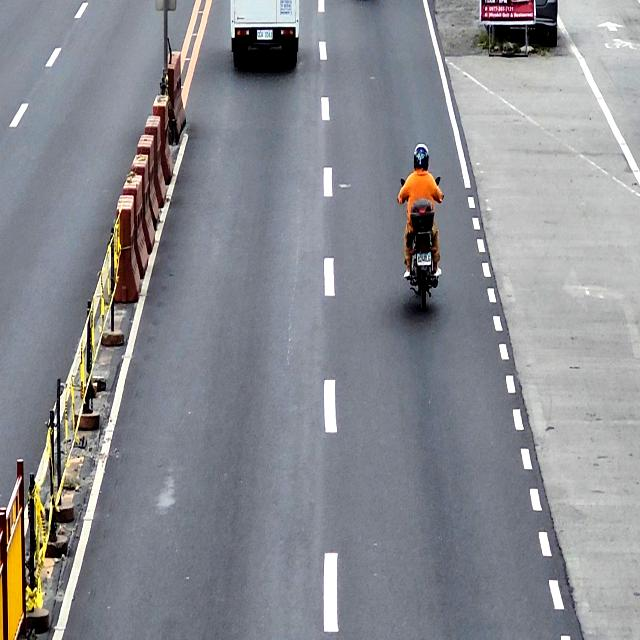Car: (230, 0, 300, 66)
License-Plate: (416, 252, 432, 266), (256, 29, 273, 41)
Motorcycle: (400, 174, 440, 312)
